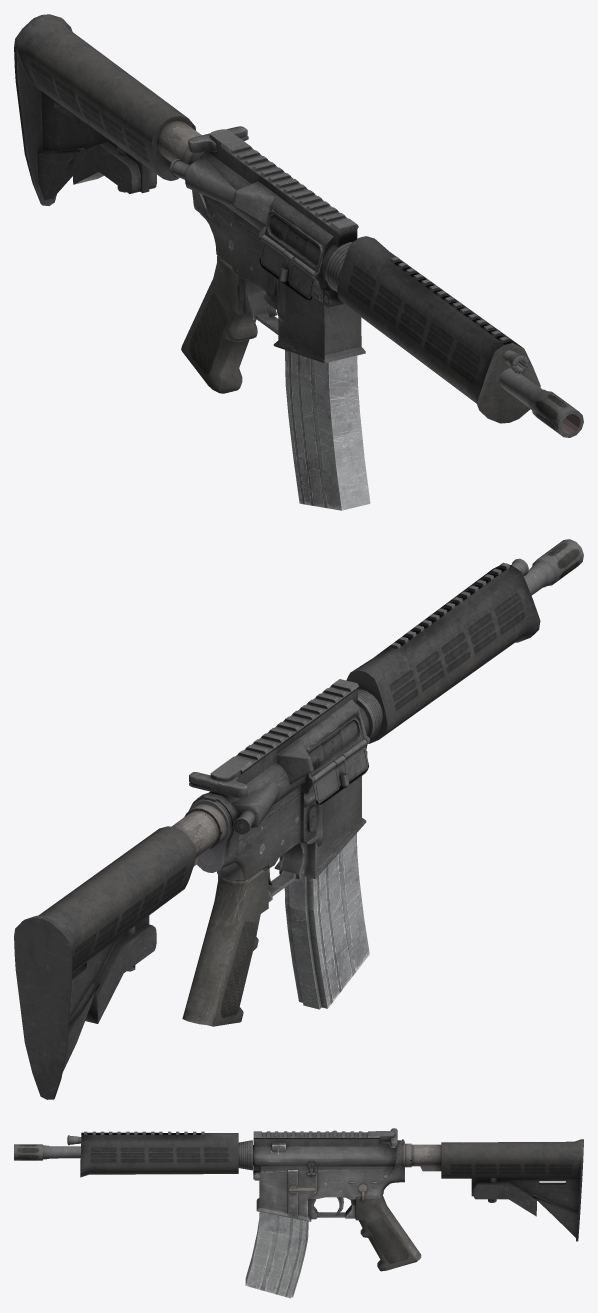
Rendered from AR75pickup.fbx.
The picture shows the model from 3 angles, top to bottom: view 1: azimuth 30°, elevation 25°; view 2: azimuth 150°, elevation 25°; view 3: azimuth 270°, elevation 25°; orthographic projection. The views are drawn at different scales.
Visible parts, largest first — view 1: M4A1; view 2: M4A1; view 3: M4A1.
Boxes of the visible parts, x1,y1,x2,y2 form: M4A1: (14,14,583,510); M4A1: (14,539,583,1099); M4A1: (14,1128,583,1298).
Size of the model in its own units: 12.89 by 51.86 by 165.
